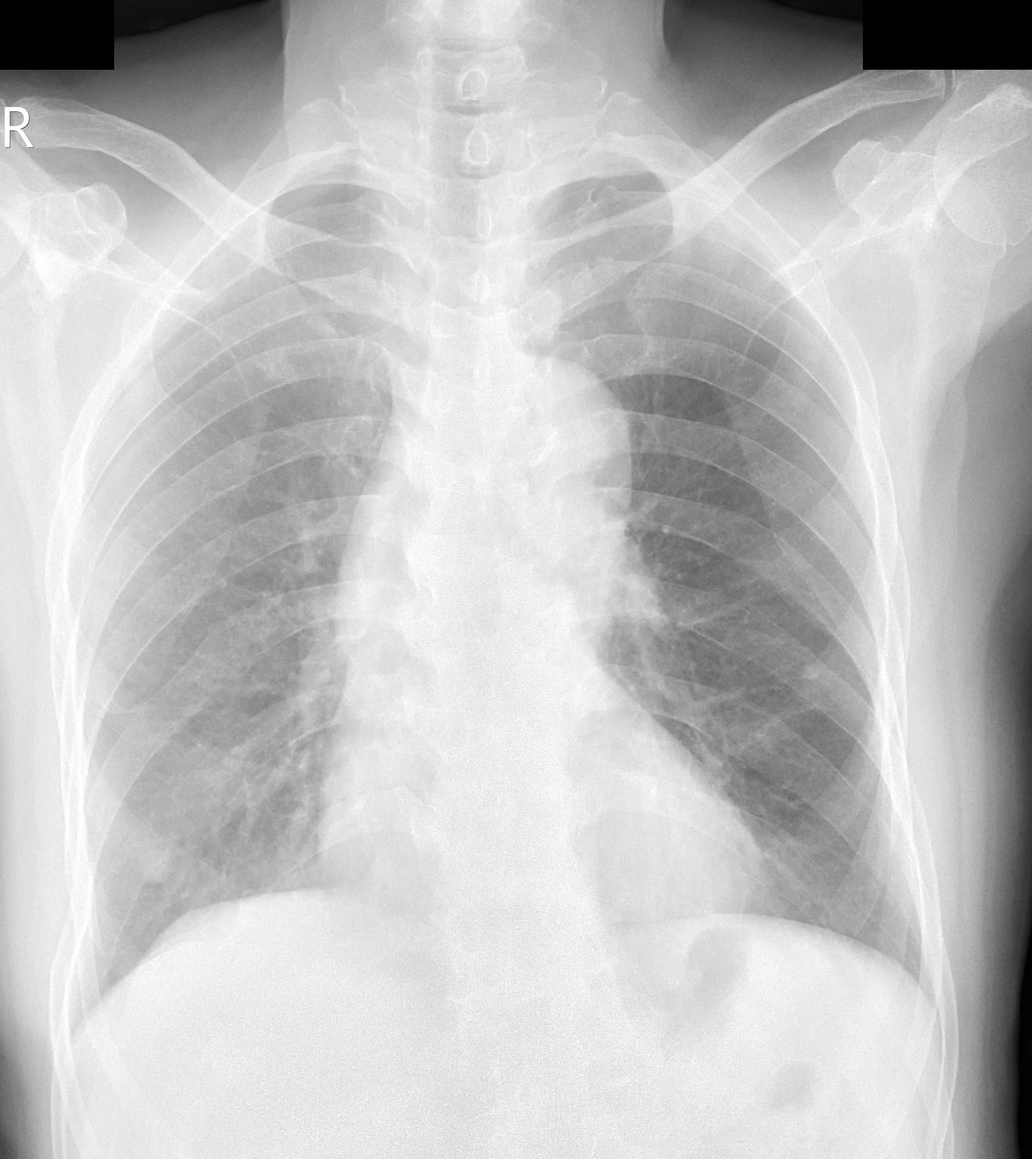Aortic enlargement: (479, 352, 632, 521)
Pulmonary fibrosis: (131, 849, 173, 886)
